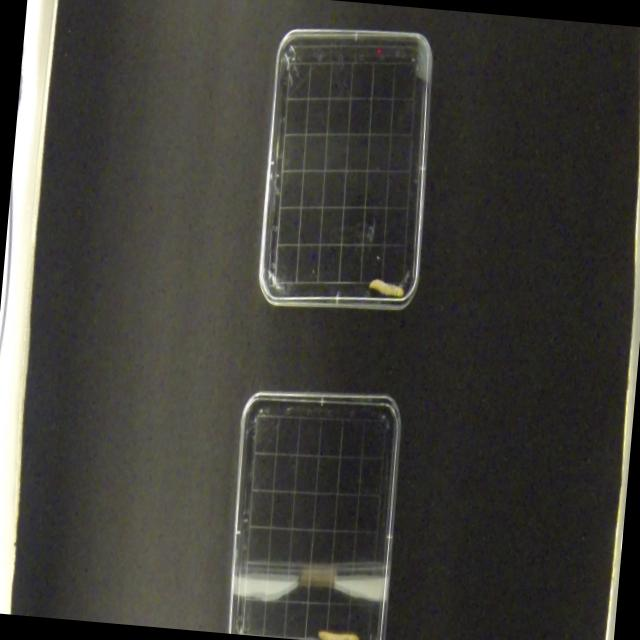larva: (370, 274, 404, 302), (316, 628, 359, 640)
